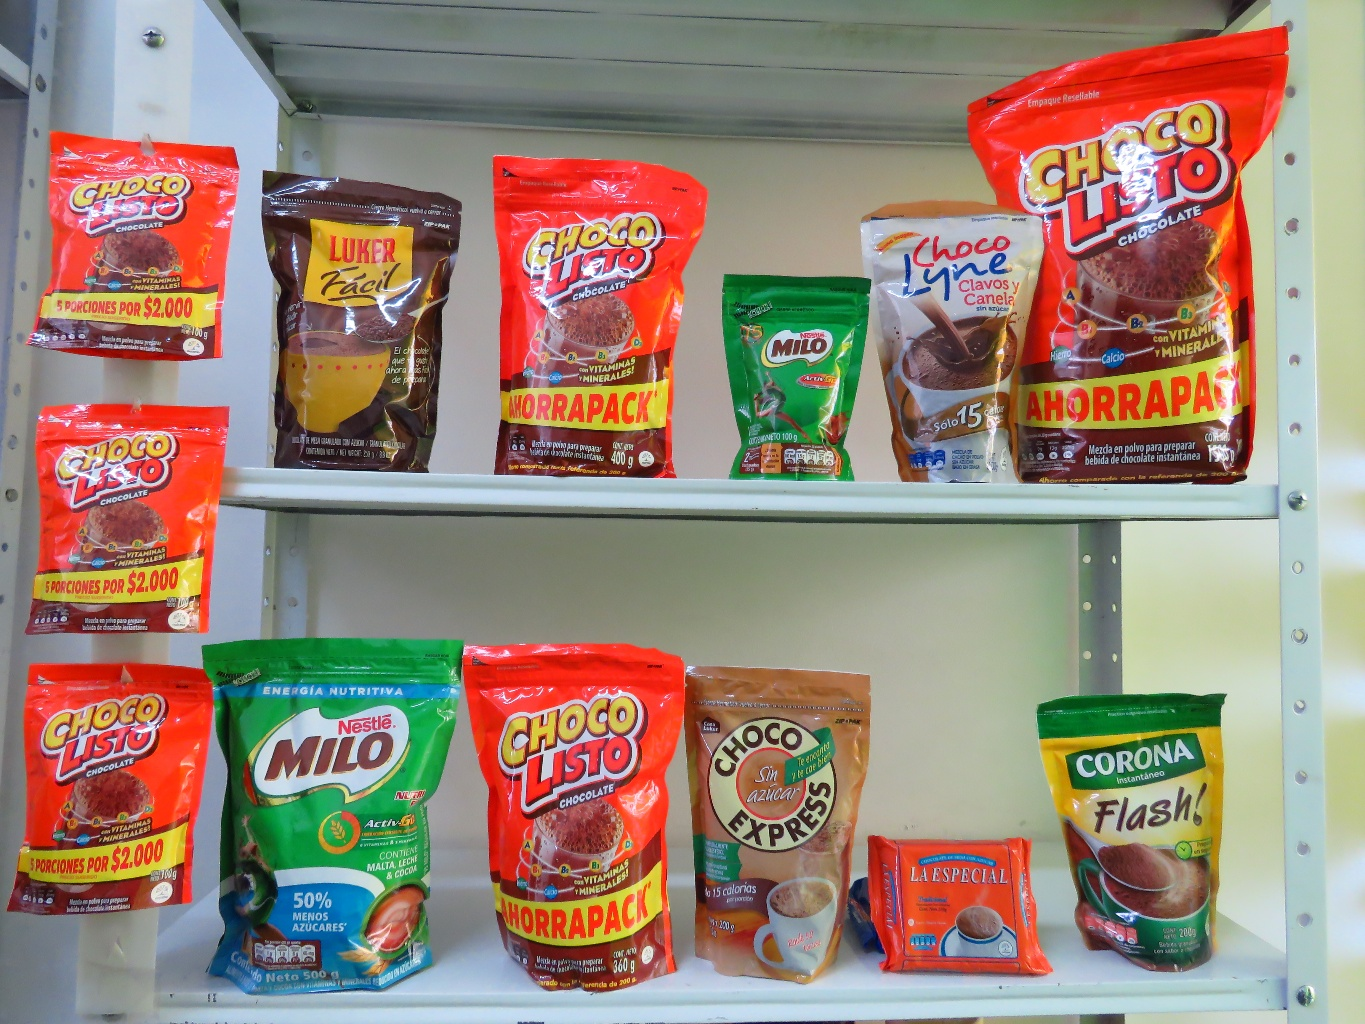COL0170103DYP1,500: (967, 23, 1286, 493)
COL0170103DYP10000: (22, 134, 245, 370)
COL0170103DYP36000: (453, 626, 684, 984)
COL0170103DYP40000: (484, 147, 707, 472)
COL0170203DYP10000: (716, 270, 872, 477)
COL0170205DYP50000: (191, 634, 464, 1005)
